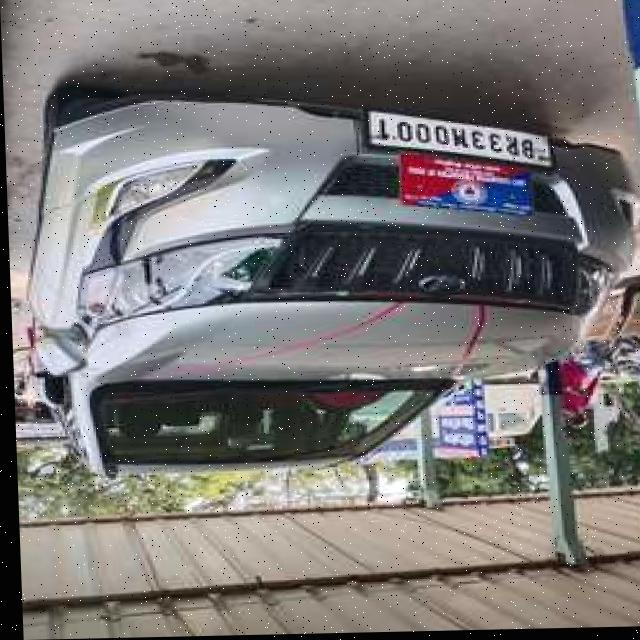plate: (359, 99, 554, 175)
